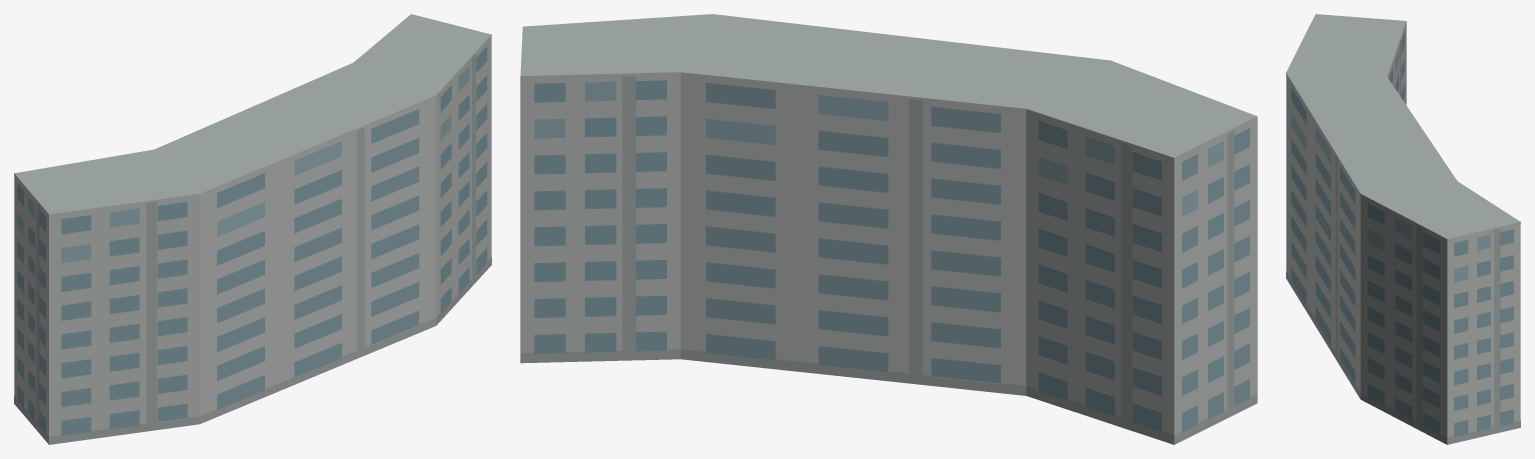
File: residential-b87ead76-89cf-440b-923c-ef74da7220de.glb
3 renders of one model, left to right at view 1: azimuth 30°, elevation 25°; view 2: azimuth 150°, elevation 25°; view 3: azimuth 270°, elevation 25°, orthographic. The views are drawn at different scales.
Visible parts, largest first — view 1: residential-b87ead76-89cf-440b-923c-ef74da7220de.tmp; view 2: residential-b87ead76-89cf-440b-923c-ef74da7220de.tmp; view 3: residential-b87ead76-89cf-440b-923c-ef74da7220de.tmp.
Boxes of the visible parts, left/top/right/bottom form: residential-b87ead76-89cf-440b-923c-ef74da7220de.tmp: left=14, top=14, right=491, bottom=444; residential-b87ead76-89cf-440b-923c-ef74da7220de.tmp: left=520, top=14, right=1257, bottom=444; residential-b87ead76-89cf-440b-923c-ef74da7220de.tmp: left=1286, top=14, right=1520, bottom=444.
Bounding box in the file's own units: 63.3 × 27 × 27.9.
